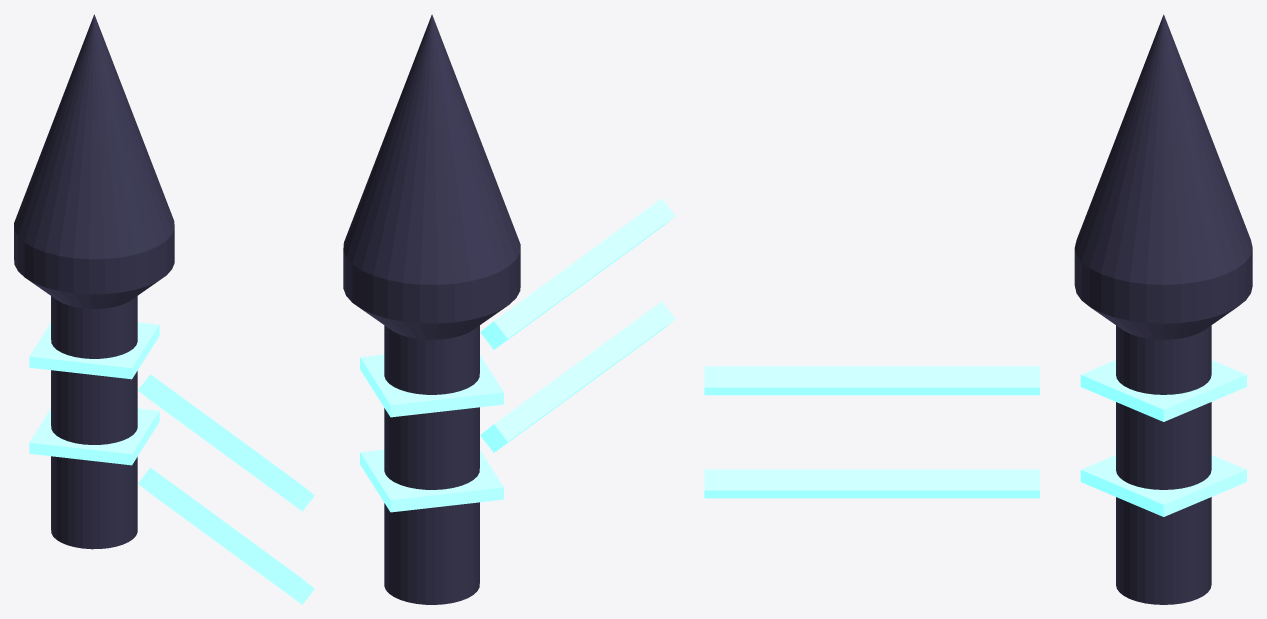
File: Fencepost.fbx
The picture shows the model from 3 angles, left to right: view 1: azimuth 30°, elevation 25°; view 2: azimuth 150°, elevation 25°; view 3: azimuth 270°, elevation 25°; orthographic projection. The views are drawn at different scales.
Visible parts, largest first — view 1: _Fence Post; view 2: _Fence Post; view 3: _Fence Post.
Boxes of the visible parts, left/top/right/bottom form: _Fence Post: left=14, top=14, right=314, bottom=604; _Fence Post: left=343, top=14, right=675, bottom=604; _Fence Post: left=704, top=14, right=1252, bottom=604.
Size of the model in its own units: 0.5256 by 1.86 by 1.62.
